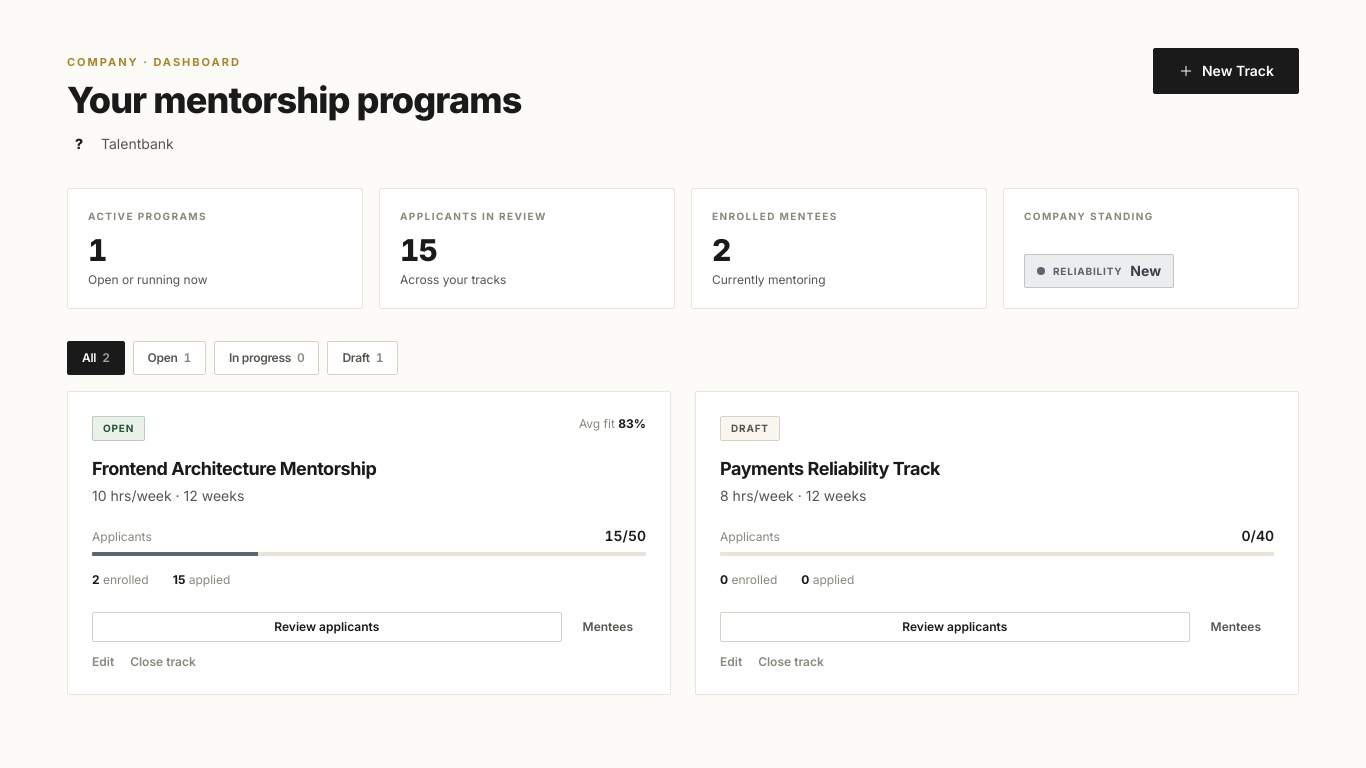
Test: RecruiterDashboard › filters to only Open programs when the Open filter is clicked
Click the button "Open1" at (169, 358), box [133,341,206,375]
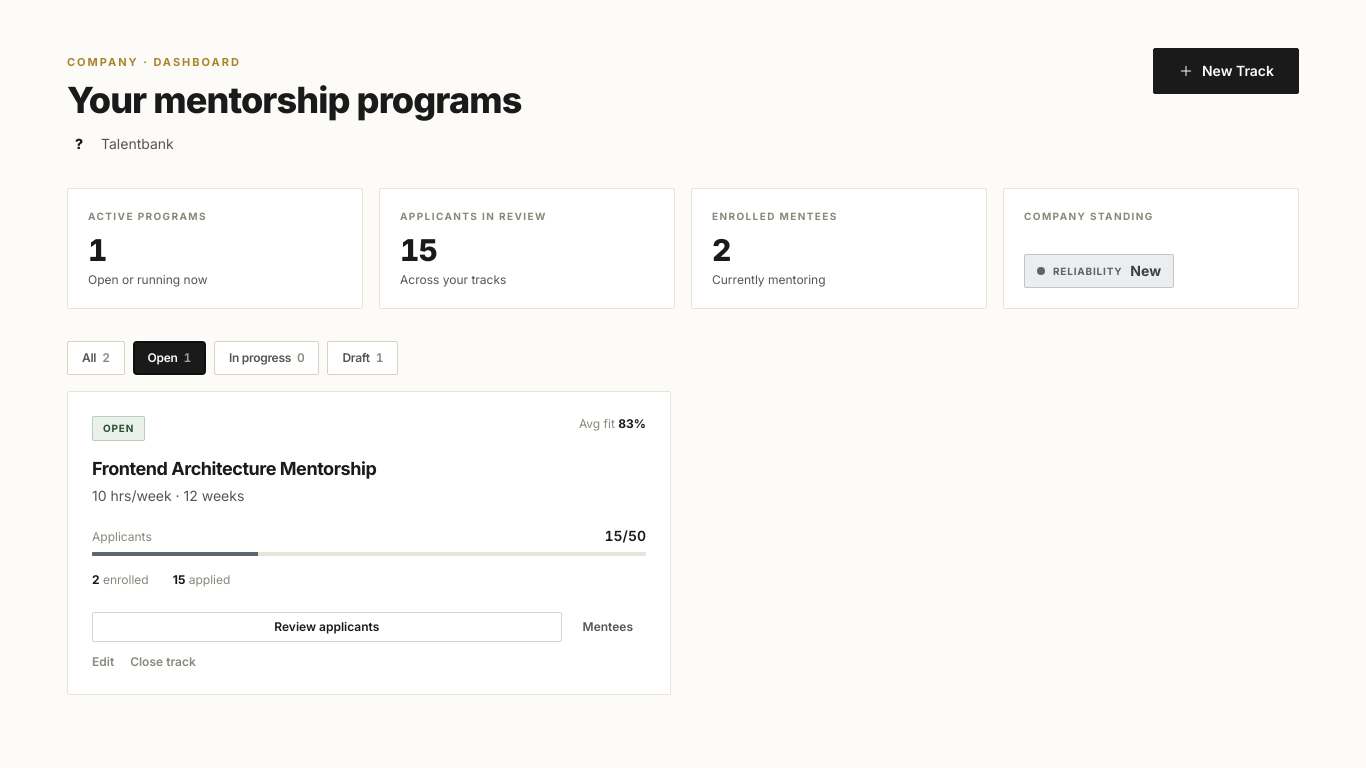
Check: the heading "Frontend Architecture Mentorship" is shown, box [92,458,376,479]
Check: the heading "Payments Reliability Track" is gone
